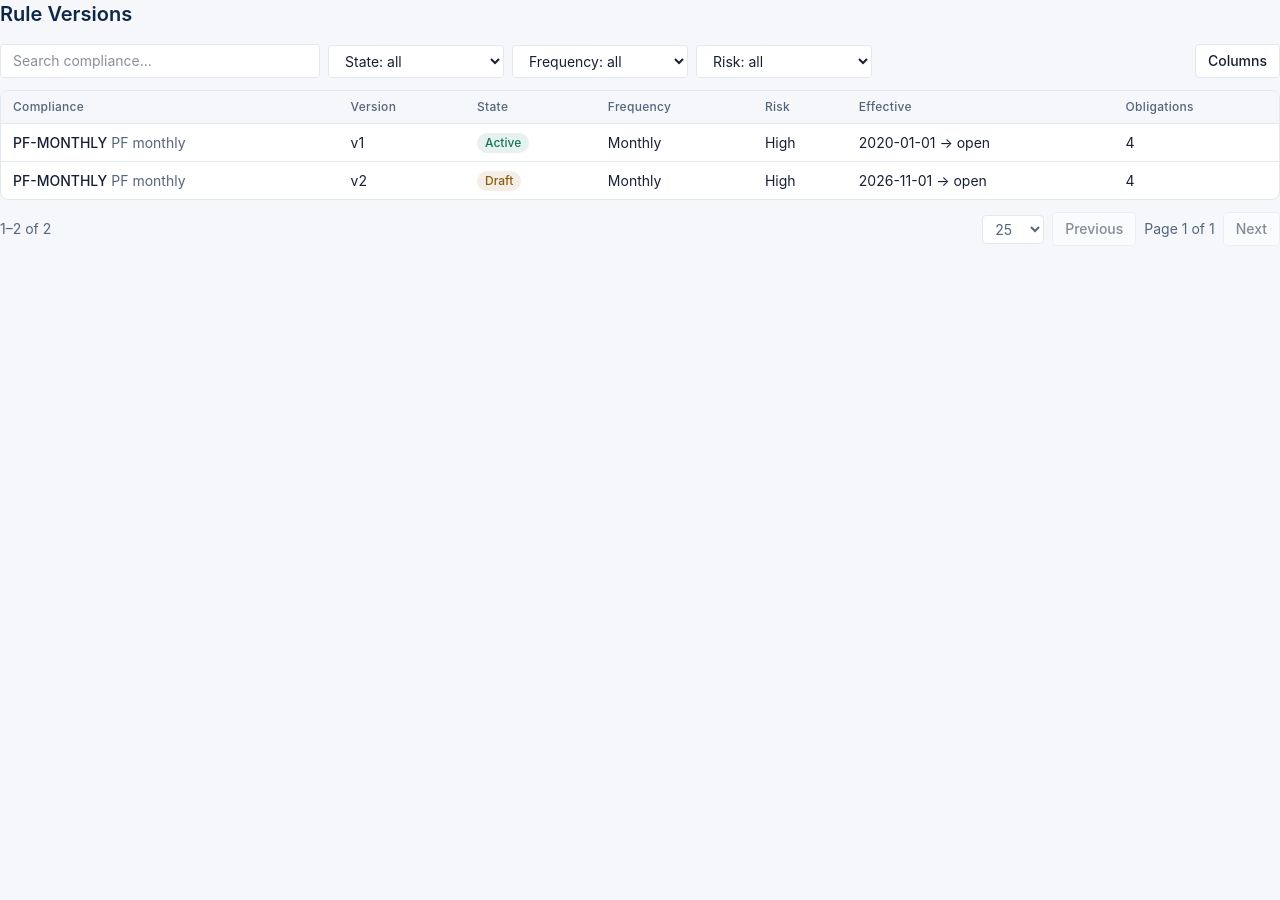
Test: Rule Versions › read-only users see the history but no actions
This screenshot has width=1280, height=900.
Step 1. Click the text "v2" → (359, 180), box top-left (339, 162), bottom-right (465, 199)
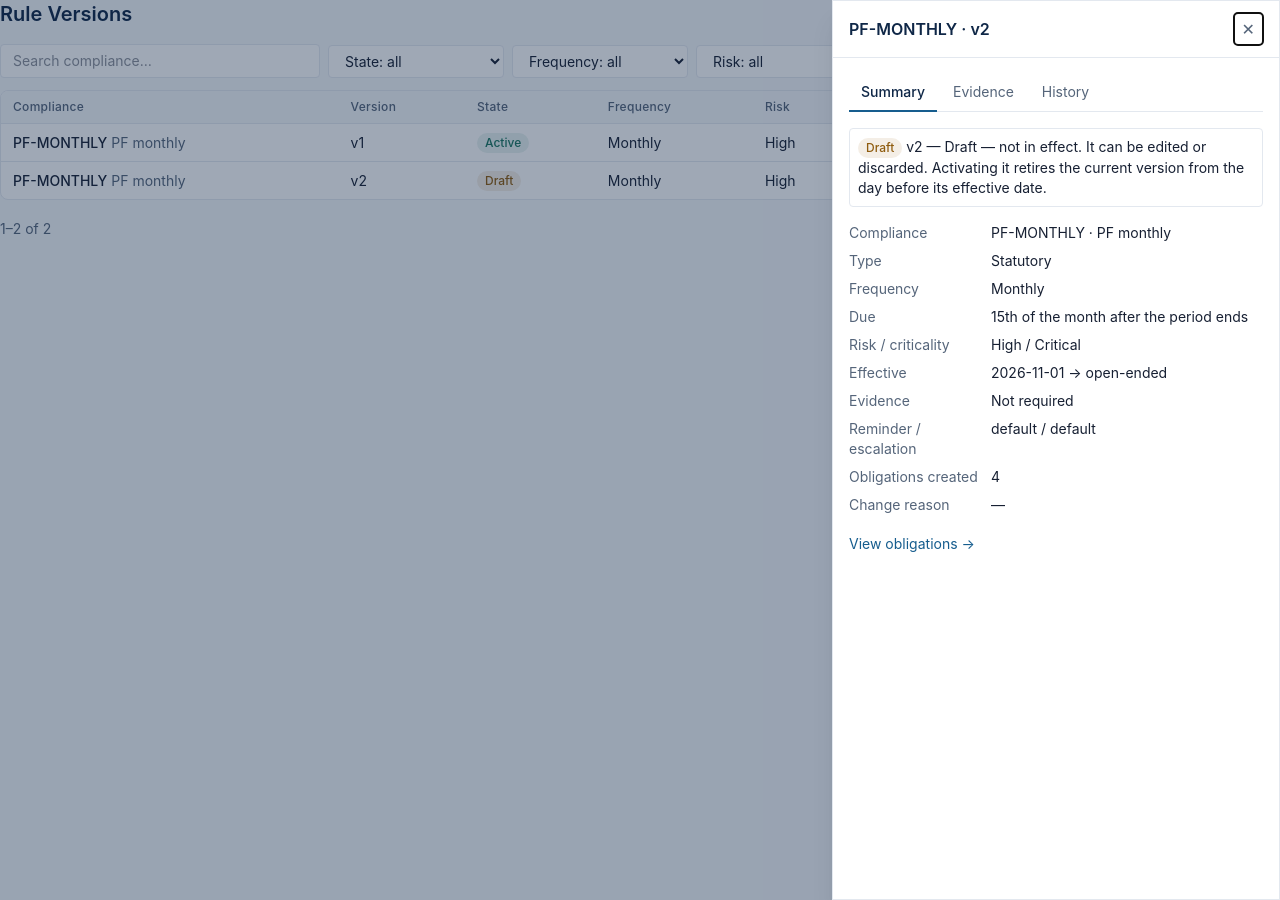
Now the text "not in effect" is shown, box top-left (858, 138), bottom-right (1244, 196)
